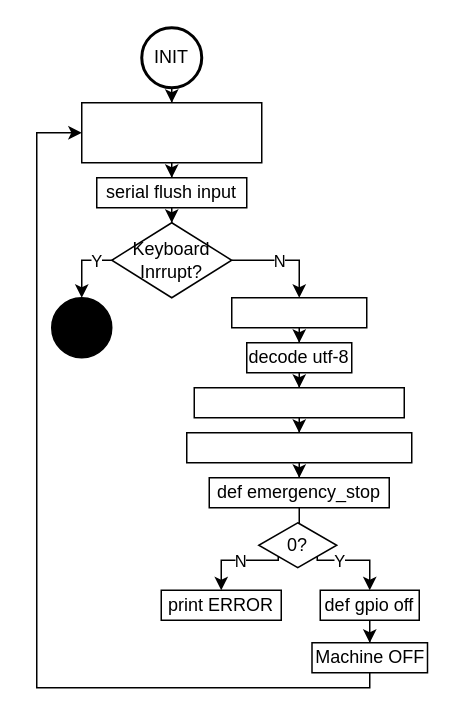
This 455x726 diagram has some shape labels left out. Each missing label, with the centre of its shape:
data_frame_line split ";": pixel 298 402
dataframeline[4] = sensor4: pixel 298 447
END: pixel 81 327
serial Read ttyUSB0 9600 Baudios: pixel 171 132
serial ReadLine: pixel 298 312
